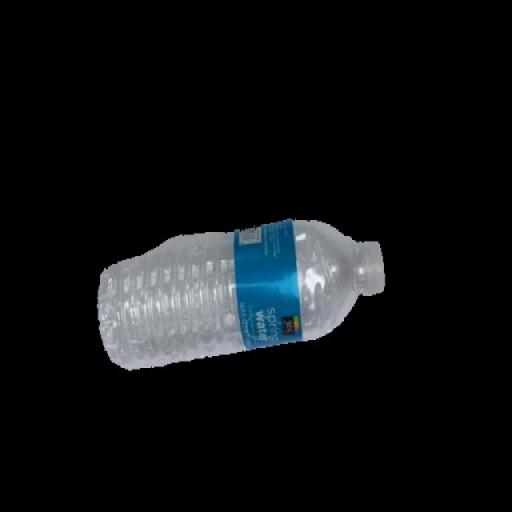plastic: (96, 215, 385, 370)
